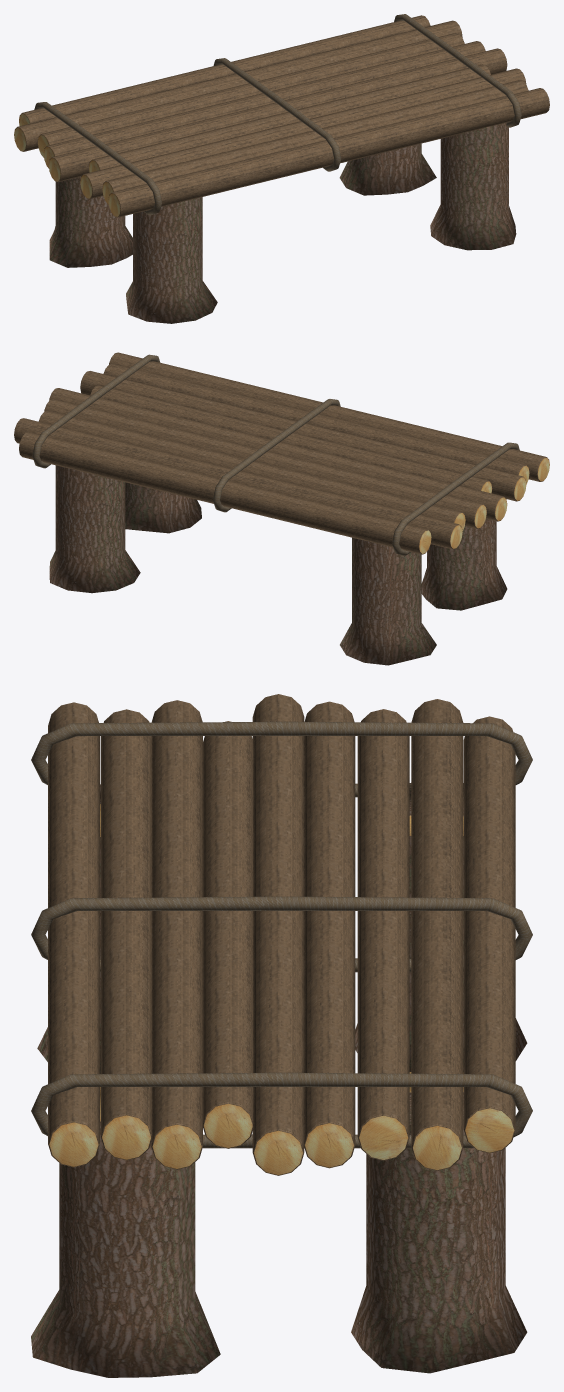
The model's file is Table.fbx.
The picture shows the model from 3 angles, top to bottom: view 1: azimuth 30°, elevation 25°; view 2: azimuth 150°, elevation 25°; view 3: azimuth 270°, elevation 25°; orthographic projection. The views are drawn at different scales.
Visible parts, largest first — view 1: Table; view 2: Table; view 3: Table.
Boxes of the visible parts, x1,y1,x2,y2 form: Table: (14, 14, 549, 323); Table: (14, 352, 549, 665); Table: (31, 694, 532, 1377).
Bounding box in the file's own units: 14.33 × 4.45 × 6.98.
